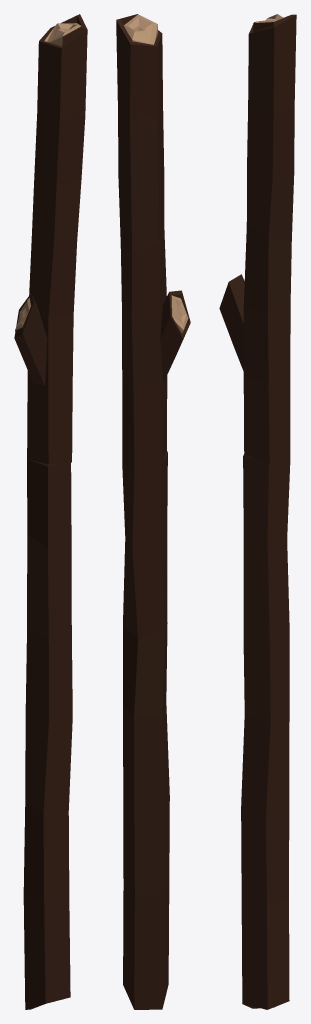
The model's file is Tronc.fbx.
3 renders of one model, left to right at view 1: azimuth 30°, elevation 25°; view 2: azimuth 150°, elevation 25°; view 3: azimuth 330°, elevation 25°, orthographic. The views are drawn at different scales.
Visible parts, largest first — view 1: Cylinder; view 2: Cylinder; view 3: Cylinder.
Part boxes in pixels (x1=…): Cylinder: x1=14, y1=14, x2=87, y2=1009; Cylinder: x1=116, y1=14, x2=190, y2=1009; Cylinder: x1=219, y1=14, x2=296, y2=1009.
Size of the model in its own units: 62.23 by 879 by 44.52.
